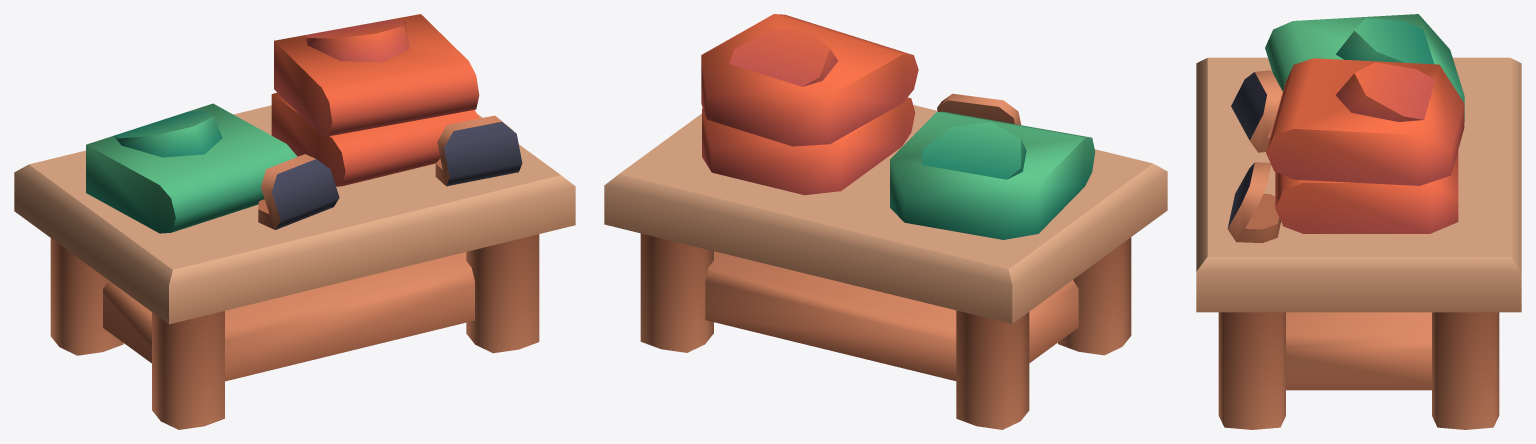
The model's file is clothing-table.obj.
3 renders of one model, left to right at view 1: azimuth 30°, elevation 25°; view 2: azimuth 150°, elevation 25°; view 3: azimuth 270°, elevation 25°, orthographic. The views are drawn at different scales.
Visible parts, largest first — view 1: clothing-table, clothing; view 2: clothing-table, clothing; view 3: clothing-table, clothing.
Part boxes in pixels (box(x1,y1,x2,y2)): clothing-table: box(14, 105, 575, 429); clothing: box(86, 14, 479, 233); clothing-table: box(604, 93, 1167, 429); clothing: box(701, 14, 1095, 239); clothing-table: box(1196, 57, 1521, 429); clothing: box(1265, 14, 1464, 233).
Size of the model in its own units: 0.88 by 0.595 by 0.58.
Materials: 1 (1 with a texture image).
